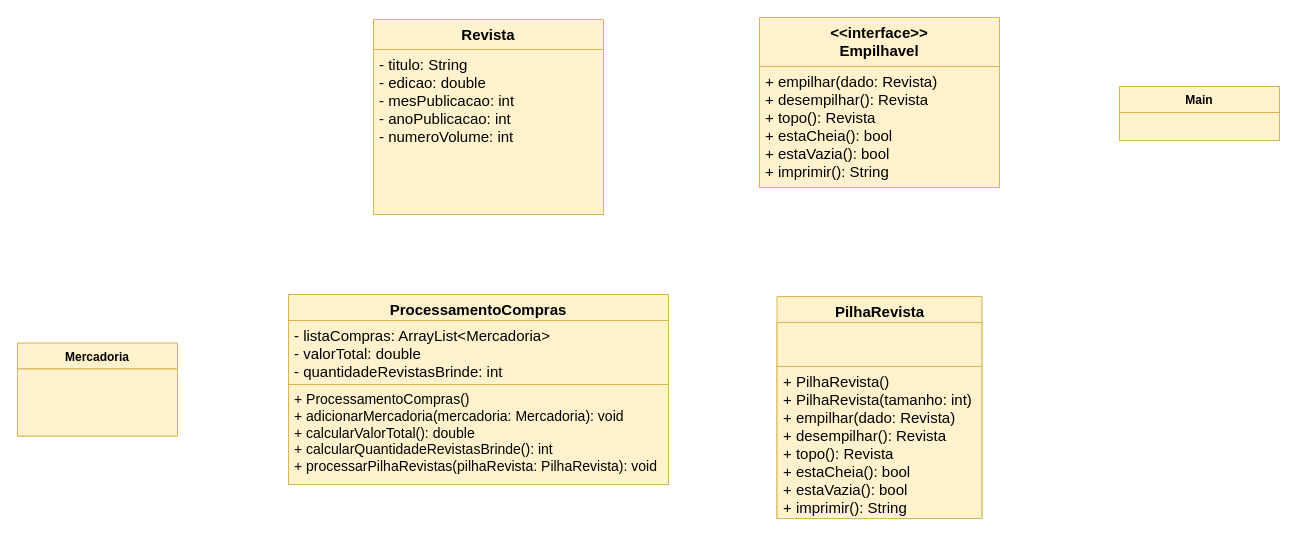
Image size: 1297x539. Some labels were removed from this diagram. The centre of each missing label's shape, as x and y in pixels:
+ main(): (1199,126)
- nome: String - preco: double: (97,402)
- ponteiroTopo: int - dados: Revista[]: (879,344)
